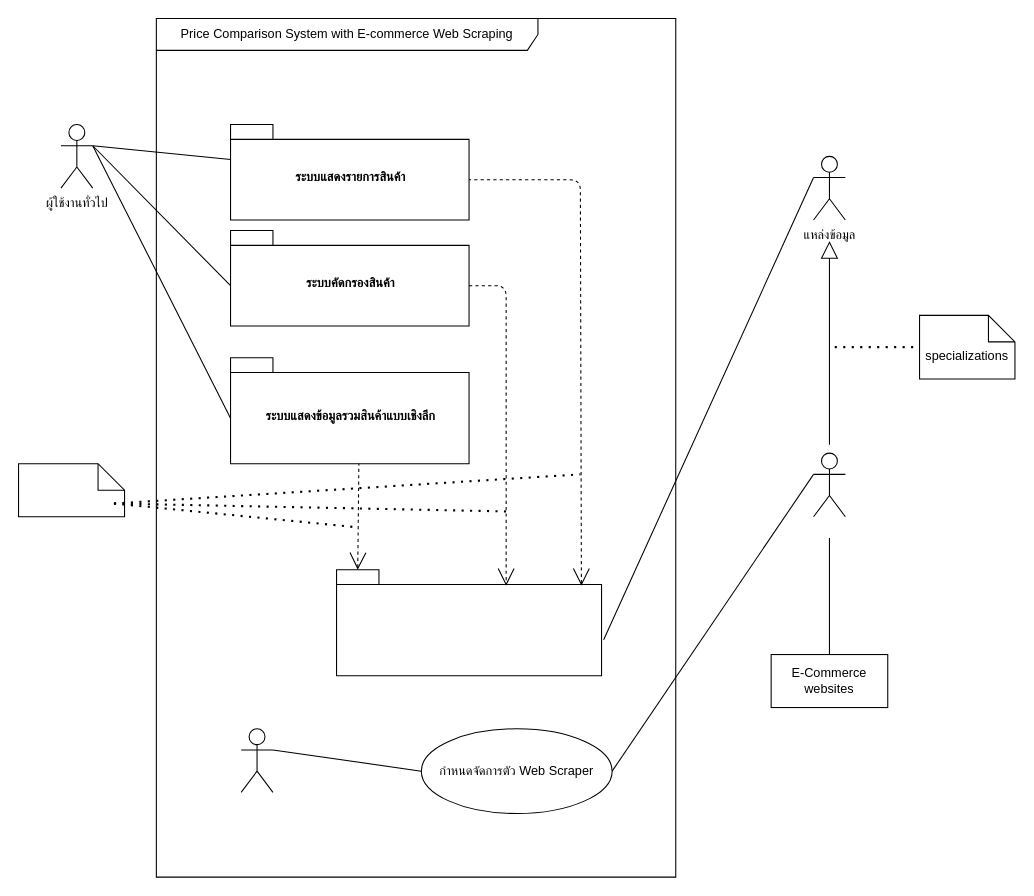
This 1034x896 diagram has some shape labels left out. The centre of each missing label's shape, as x and y in pixels:
Dependency: the point at 71,490
Web Scraper: the point at 828,484
ผู้ดูแลระบบ: the point at 256,760
ระบบรวบรวมข้อมูล: the point at 468,622
